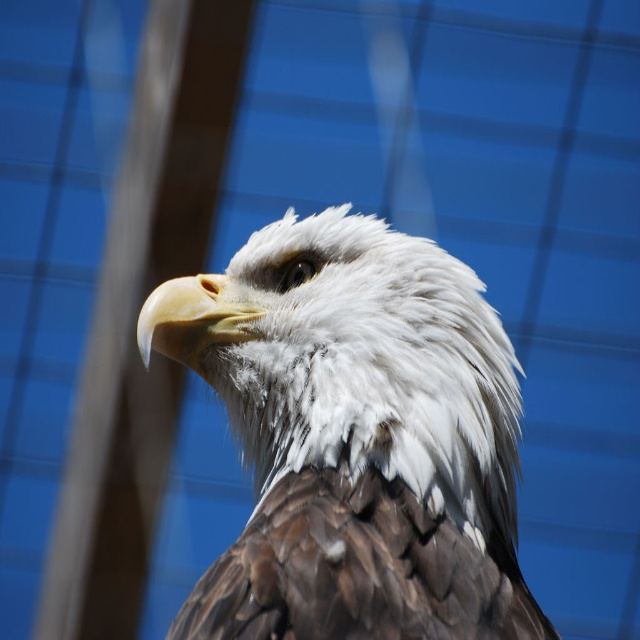Eagle: (138, 200, 558, 639)
